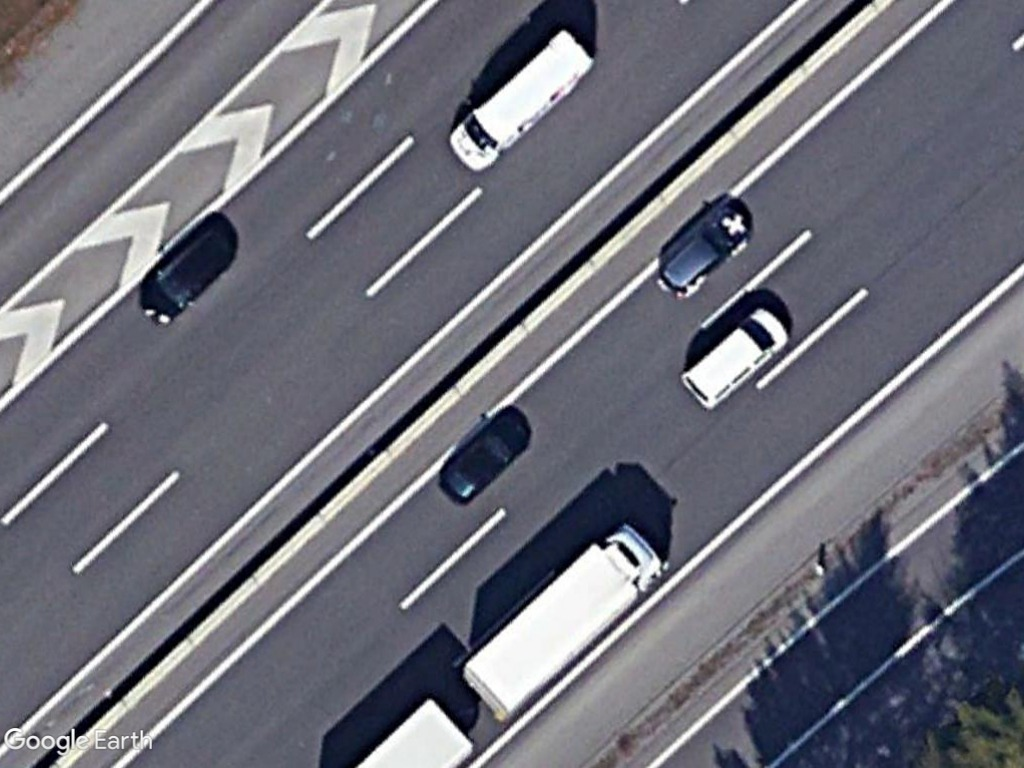car: (441, 415, 531, 504)
truck: (458, 520, 666, 720)
van: (445, 31, 593, 175), (676, 307, 792, 412)
